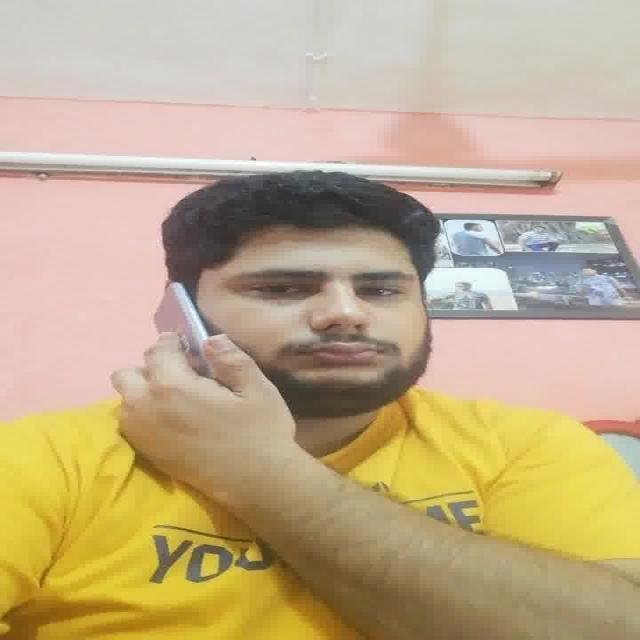Phone: (150, 280, 210, 355)
